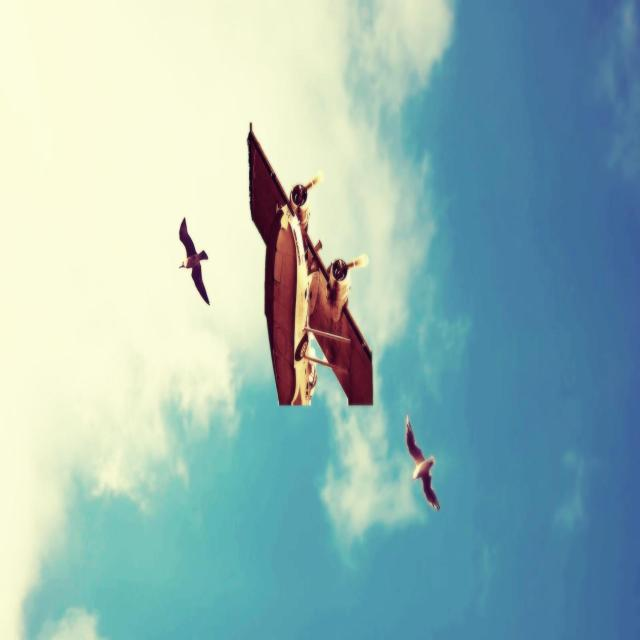airplane: (246, 121, 374, 407)
